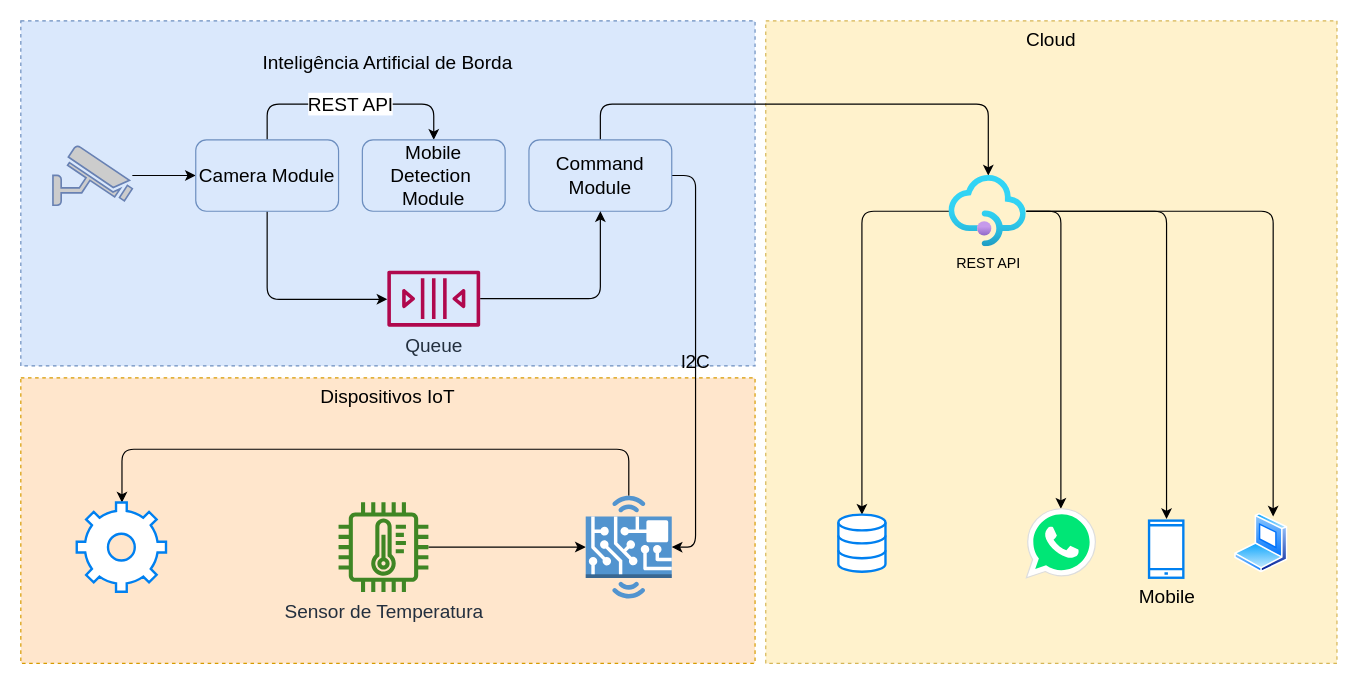
Image size: 1358x684. Some labels were removed from this diagram. The centre of each missing label's shape, as x and y in pixels:
Controlador PID: the point at 628,546
Servo: the point at 121,546
Storage: the point at 861,542
Web: the point at 1261,542
WhatsApp: the point at 1060,543
